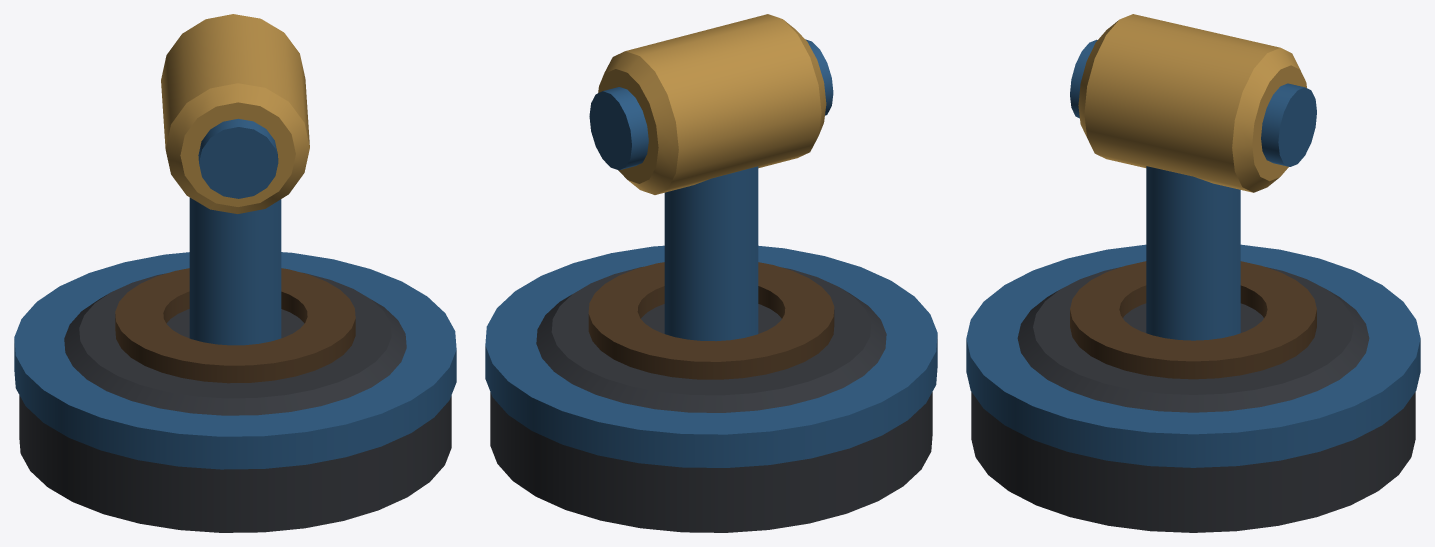
Rendered from rm2_leg_fl_foot.obj.
The picture shows the model from 3 angles, left to right: view 1: azimuth 30°, elevation 25°; view 2: azimuth 150°, elevation 25°; view 3: azimuth 270°, elevation 25°; orthographic projection. The views are drawn at different scales.
Visible parts, largest first — view 1: rm2_leg_fl_foot; view 2: rm2_leg_fl_foot; view 3: rm2_leg_fl_foot.
Boxes of the visible parts, x1,y1,x2,y2 form: rm2_leg_fl_foot: (14,14,456,532); rm2_leg_fl_foot: (485,14,937,532); rm2_leg_fl_foot: (966,14,1420,532).
Size of the model in its own units: 0.184 by 0.18 by 0.184.
